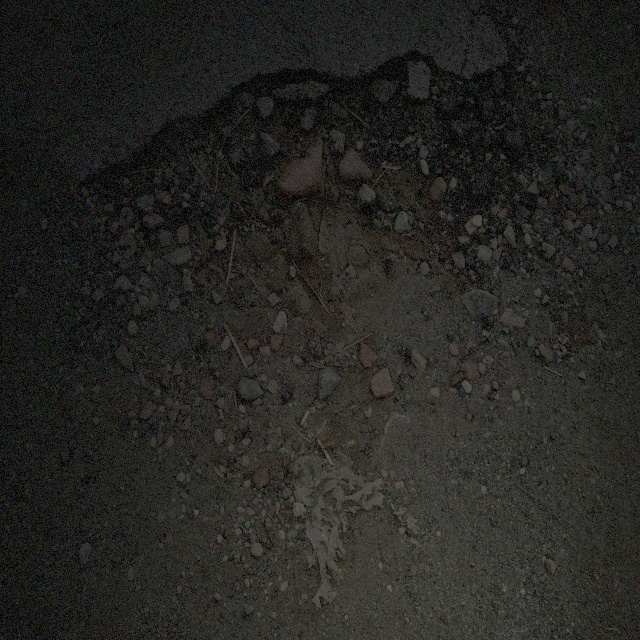pothole: (86, 39, 524, 284)
